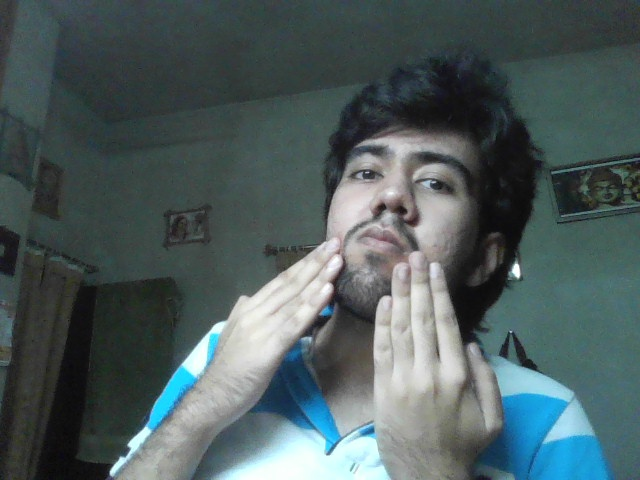ThankYou: (221, 236, 504, 471)
